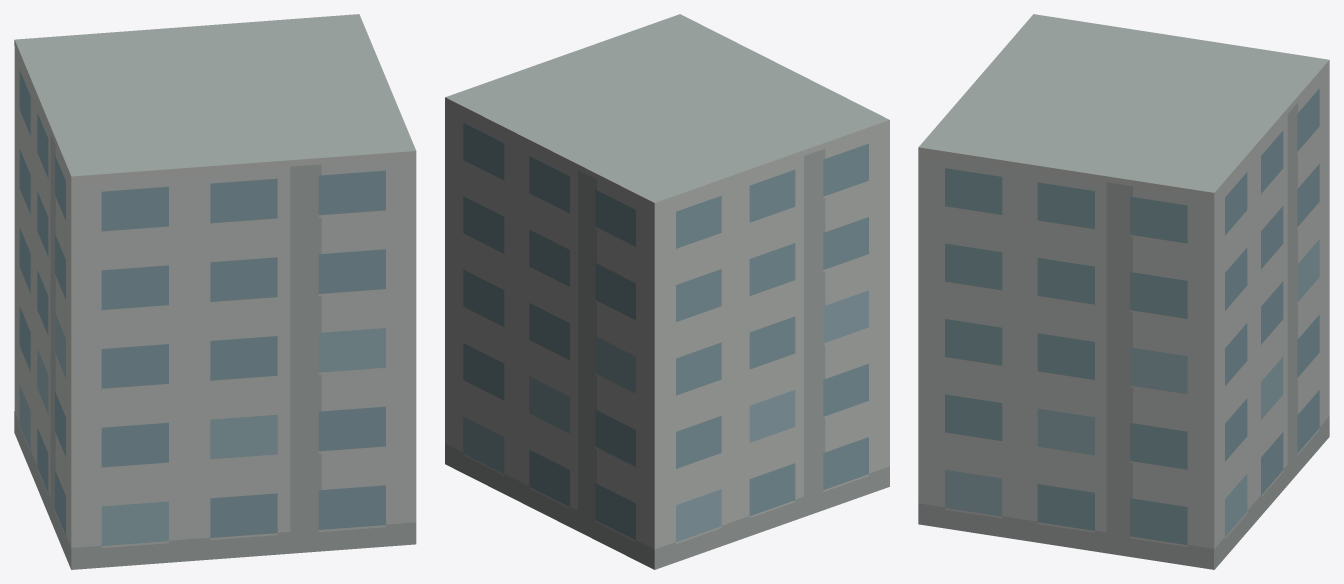
The model's file is residential-63f93bdc-5329-40db-8848-fa01f8800c5f.glb.
The picture shows the model from 3 angles, left to right: view 1: azimuth 30°, elevation 25°; view 2: azimuth 150°, elevation 25°; view 3: azimuth 270°, elevation 25°; orthographic projection. The views are drawn at different scales.
Parts seen in each view (by area): view 1: residential-63f93bdc-5329-40db-8848-fa01f8800c5f.tmp; view 2: residential-63f93bdc-5329-40db-8848-fa01f8800c5f.tmp; view 3: residential-63f93bdc-5329-40db-8848-fa01f8800c5f.tmp.
Part boxes in pixels (x1=…): residential-63f93bdc-5329-40db-8848-fa01f8800c5f.tmp: x1=14, y1=14, x2=416, y2=569; residential-63f93bdc-5329-40db-8848-fa01f8800c5f.tmp: x1=445, y1=14, x2=889, y2=569; residential-63f93bdc-5329-40db-8848-fa01f8800c5f.tmp: x1=918, y1=14, x2=1329, y2=569.
Size of the model in its own units: 15.53 by 15.25 by 15.08.
